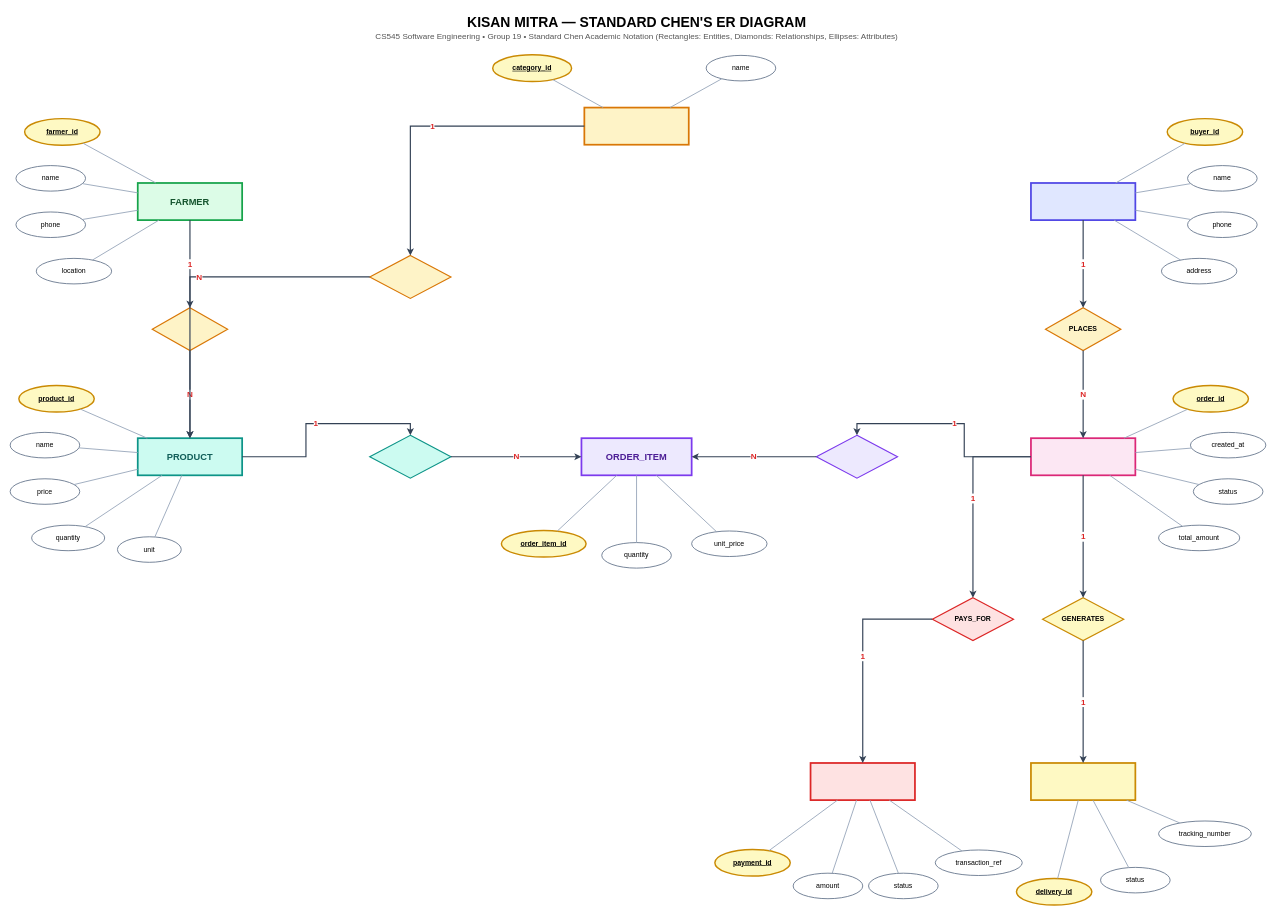
Image size: 1277x916. Some labels were removed from this diagram. Here are the shapes that lost their labels. From the top down, the centre of each, then its label:
At (x=636, y=125): "CATEGORY".
At (x=1083, y=201): "BUYER".
At (x=410, y=277): "CLASSIFIES".
At (x=189, y=329): "LISTS".
At (x=410, y=456): "REFERENCES".
At (x=856, y=456): "CONTAINS".
At (x=1083, y=456): "ORDER".
At (x=862, y=781): "PAYMENT".
At (x=1083, y=781): "DELIVERY".
